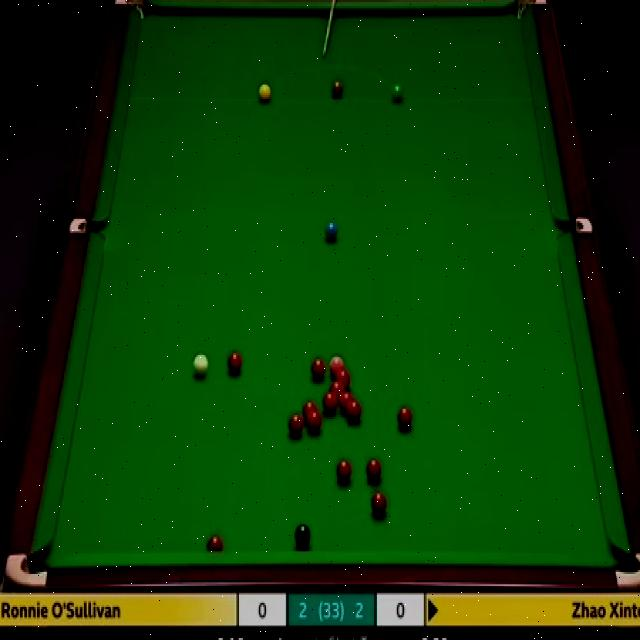black-ball: (294, 520, 311, 549)
blue-ball: (323, 219, 339, 244)
brown-ball: (330, 81, 343, 99)
green-ball: (392, 83, 404, 103)
pink-ball: (329, 355, 345, 370)
red-ball: (369, 489, 387, 517), (310, 356, 327, 383), (397, 407, 414, 430), (336, 460, 353, 482), (347, 398, 362, 422), (206, 532, 224, 552), (227, 350, 242, 374), (366, 459, 382, 481), (308, 410, 323, 433), (321, 393, 338, 411), (289, 414, 303, 435), (302, 399, 316, 417), (340, 392, 354, 410), (328, 381, 346, 394), (334, 370, 352, 382)
white-ball: (192, 350, 209, 376)
yellow-ball: (258, 82, 272, 104)
